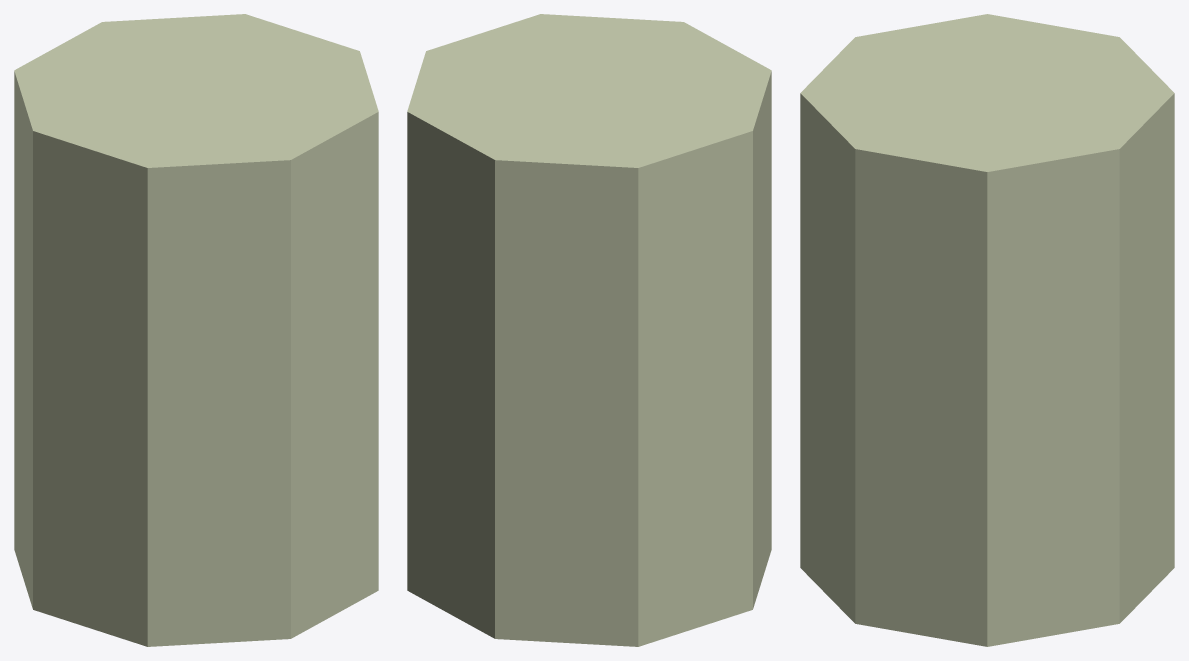
The model's file is corvus_lv_bare_engine_s1_1_collider.obj.
3 views of the same model, side by side, from view 1: azimuth 30°, elevation 25°; view 2: azimuth 150°, elevation 25°; view 3: azimuth 270°, elevation 25° (orthographic).
Visible parts, largest first — view 1: corvus_lv_bare_engine_s1_1_collider; view 2: corvus_lv_bare_engine_s1_1_collider; view 3: corvus_lv_bare_engine_s1_1_collider.
Part boxes in pixels (x1,y1,x2,y2): corvus_lv_bare_engine_s1_1_collider: (14, 14, 378, 646); corvus_lv_bare_engine_s1_1_collider: (407, 14, 771, 646); corvus_lv_bare_engine_s1_1_collider: (800, 14, 1174, 646).
Size of the model in its own units: 1.25 by 1.75 by 1.25.
